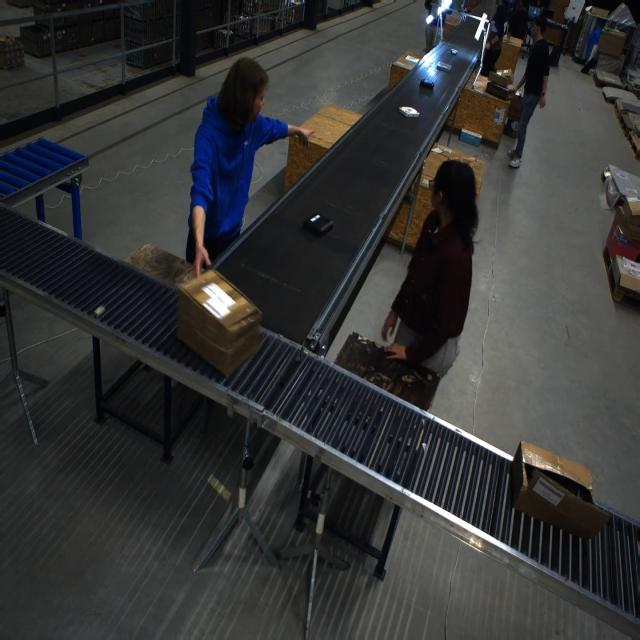box: (507, 433, 610, 532), (176, 269, 262, 376), (613, 201, 640, 244), (596, 28, 626, 56), (540, 22, 564, 45), (506, 90, 524, 120), (488, 69, 511, 87), (588, 6, 609, 18)
product: (303, 213, 333, 236), (398, 106, 418, 117), (436, 61, 452, 71), (419, 78, 434, 88), (451, 48, 458, 55)
